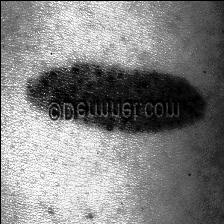Potentially Malignant Skin Tumors: (21, 68, 208, 130)
